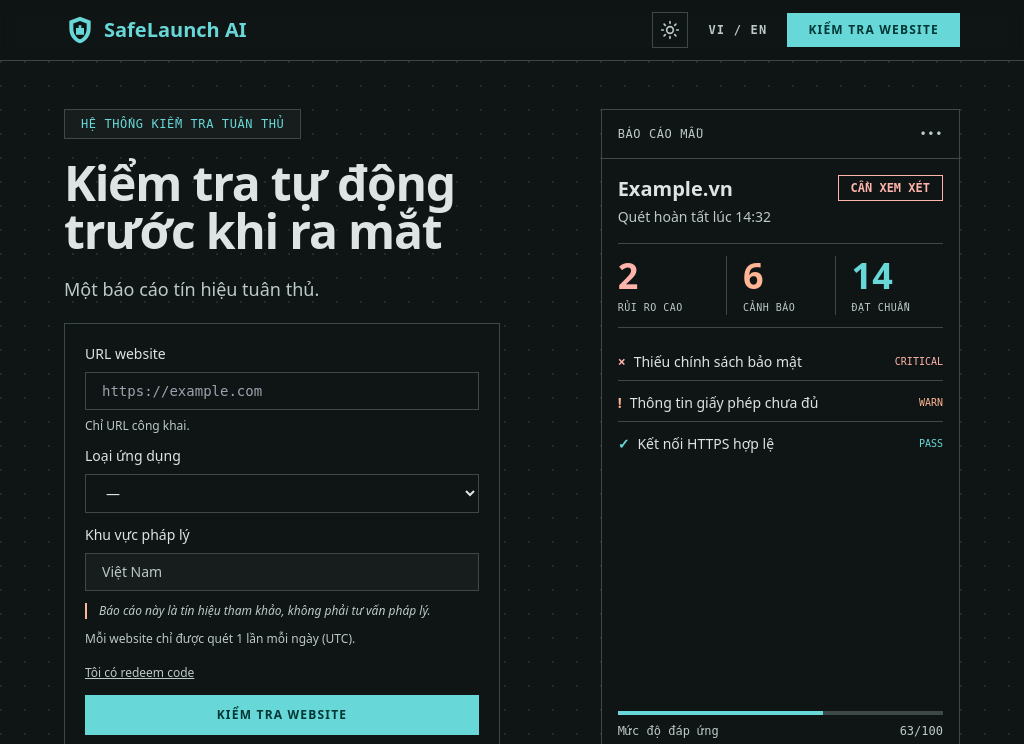
it: ScanForm › shows an inline error when the URL is invalid
In the field labelled "URL website": x=282, y=391 85,372 -> 479,410, type "not-a-url"
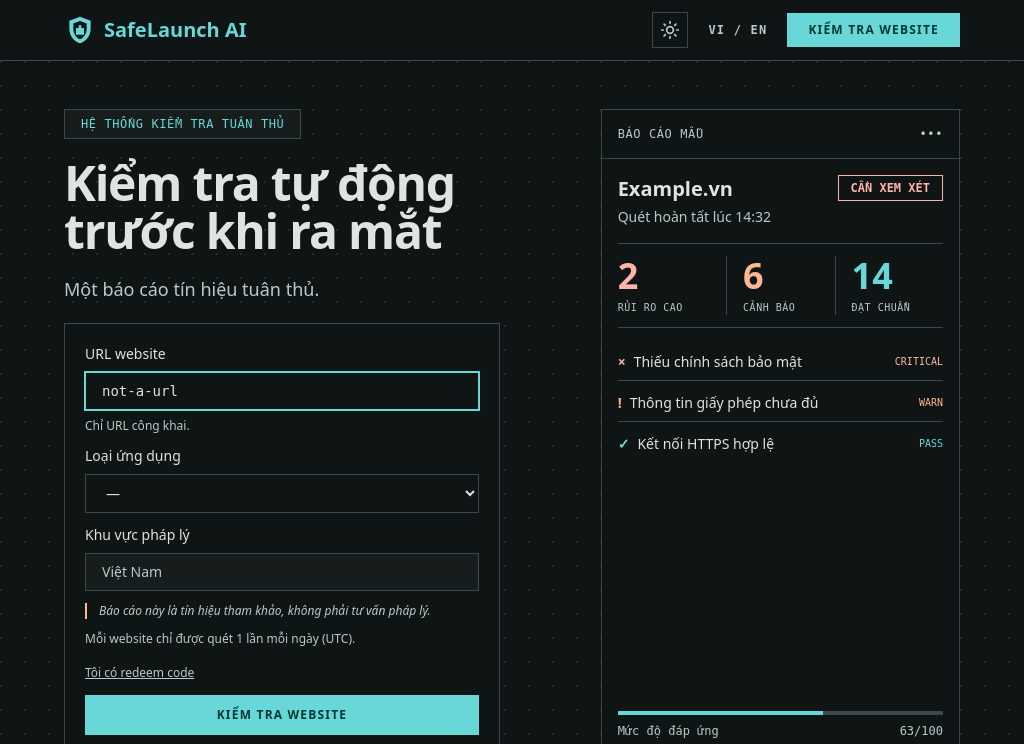
Click the button "Kiểm tra website": x=282, y=715 85,695 -> 479,735
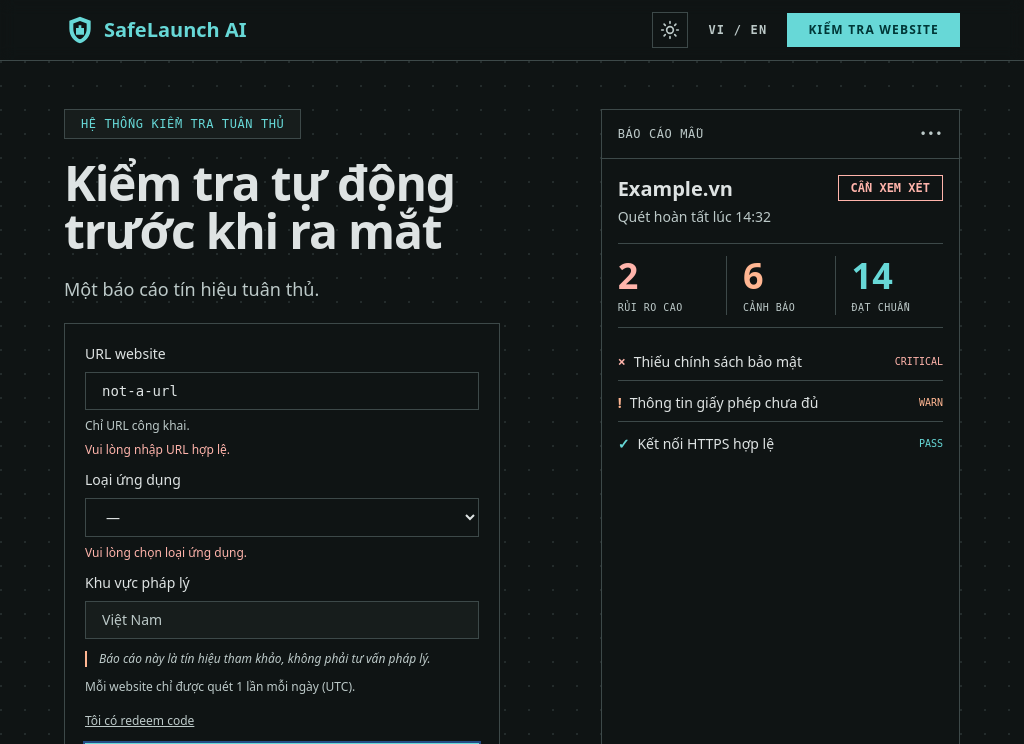
Result: the text "Vui lòng nhập URL hợp lệ." is shown at 85,441 -> 230,458
